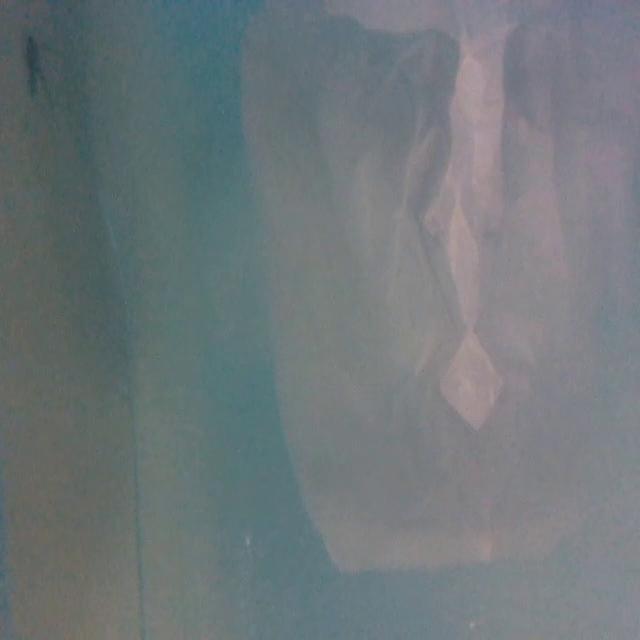plastic bags: (250, 0, 492, 595)
